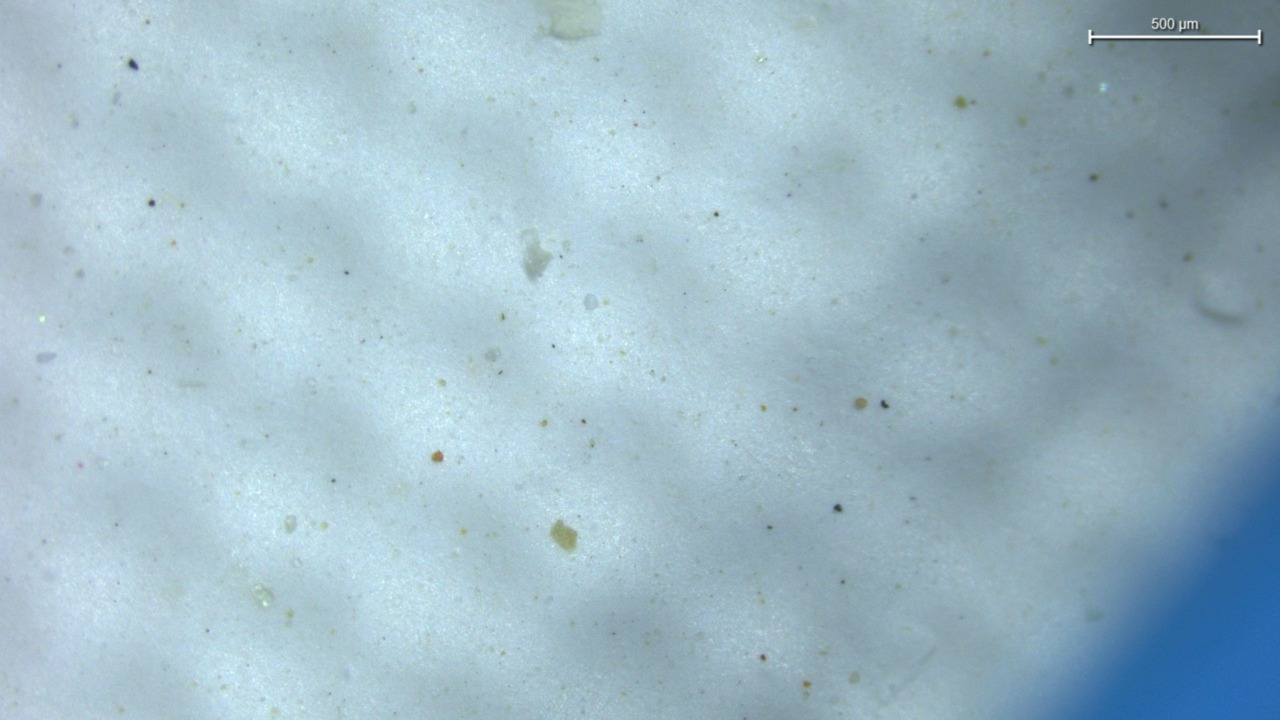microplastic_fragment: (521, 229, 553, 281)
